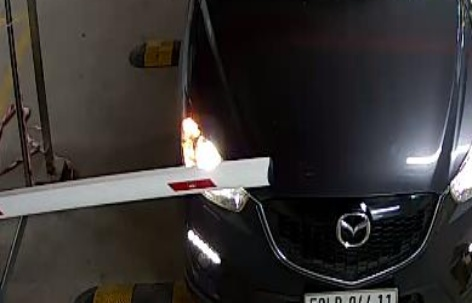plate: (301, 284, 400, 303)
